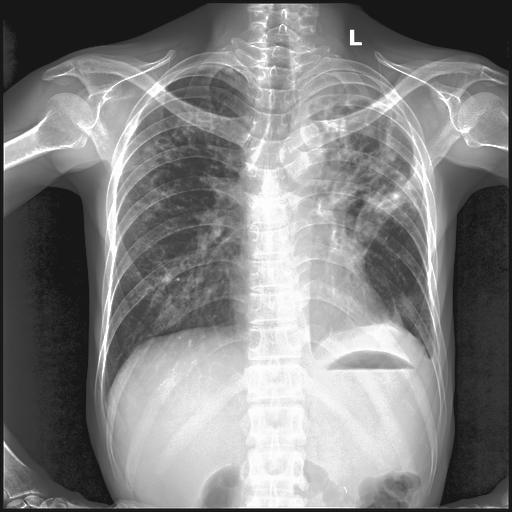Calcification: (380, 269, 403, 335), (181, 63, 236, 72), (425, 345, 442, 371)
ILD: (311, 74, 424, 257), (119, 122, 221, 281), (384, 286, 435, 353)
Infiltration: (314, 74, 424, 268), (297, 71, 406, 112)
Other lesion: (389, 290, 402, 324)
Pleural effusion: (425, 345, 442, 371)
Pleural thickening: (324, 102, 418, 250), (148, 276, 200, 333)
Pneumothorax: (128, 106, 244, 333), (311, 74, 424, 257), (384, 286, 435, 353)
